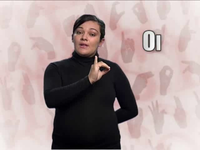oi: (88, 58, 110, 83)
